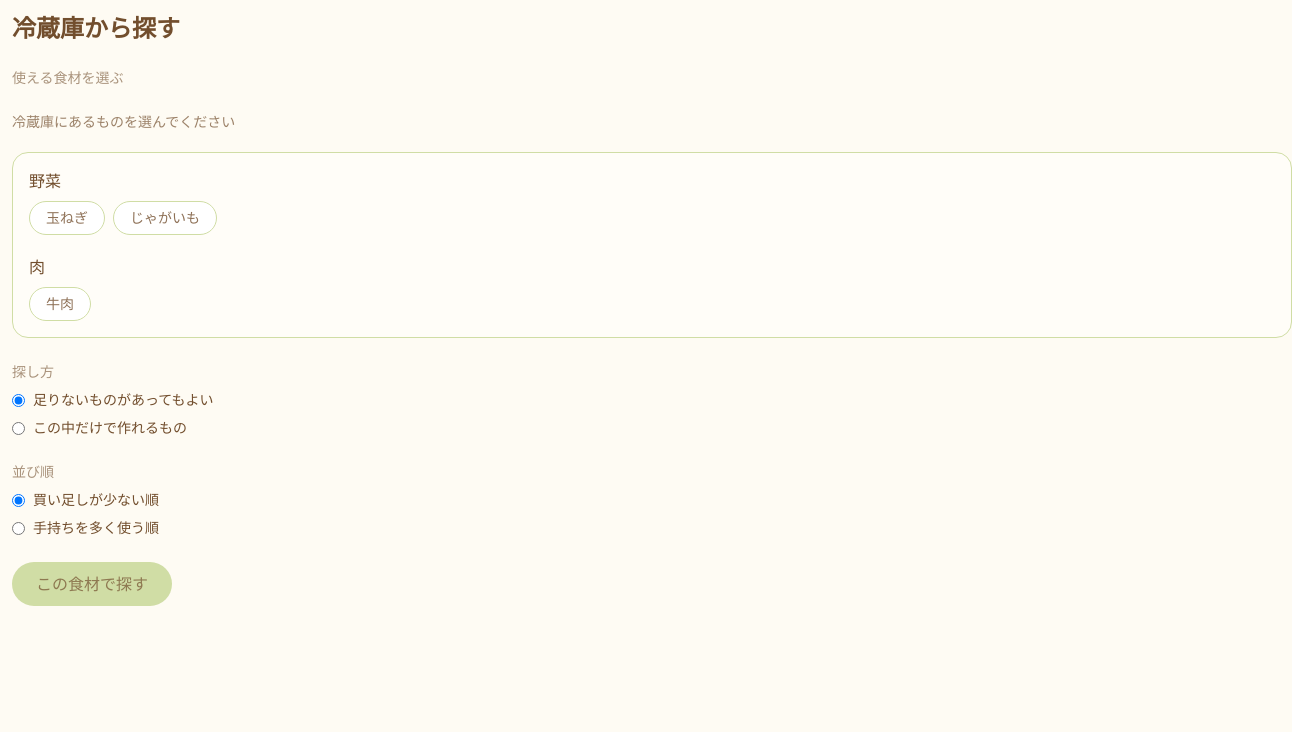
Test case: 冷蔵庫から探す › 作れるものだけを選ぶと並び順の選択肢が消える
expect the checkbox labelled "玉ねぎ" is shown: met, box x1=29 y1=201 x2=105 y2=235
expect the element "並び順" is shown: met, box x1=12 y1=462 x2=159 y2=537
Click the radio button labelled "この中だけで作れるもの": (18, 428) x1=12 y1=422 x2=25 y2=434
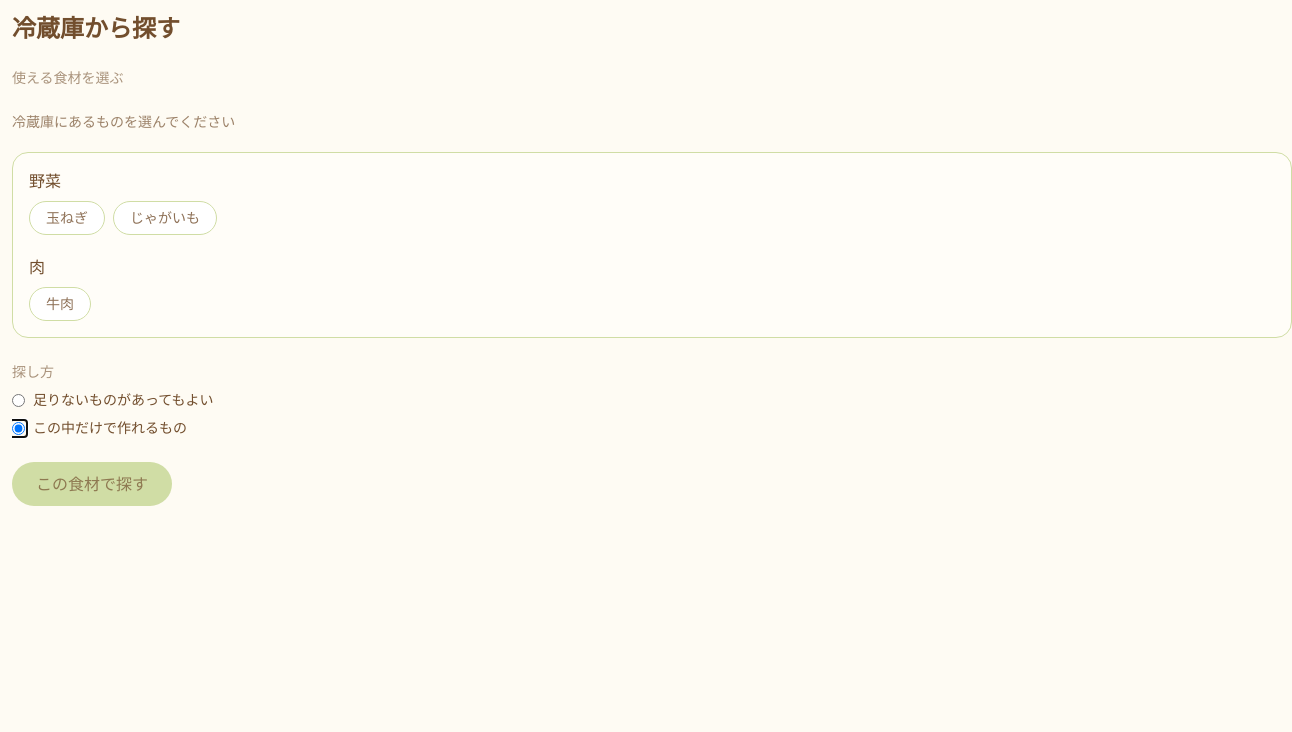
expect the text "並び順" is gone: met
